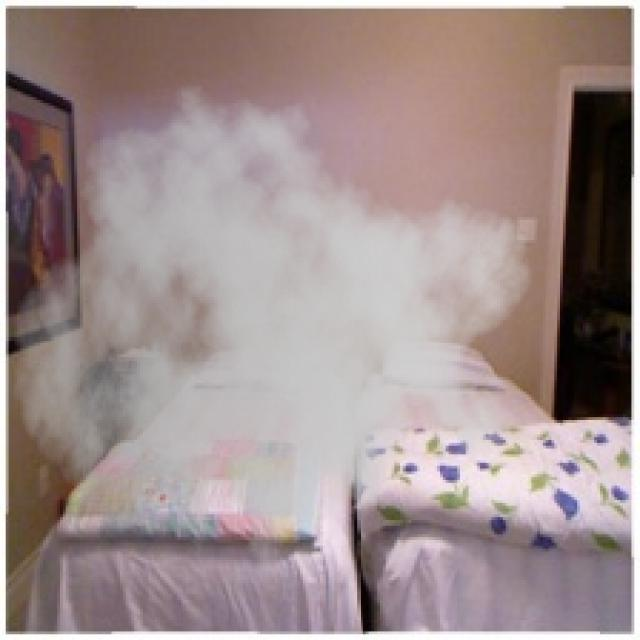smoke: (12, 72, 534, 597)
